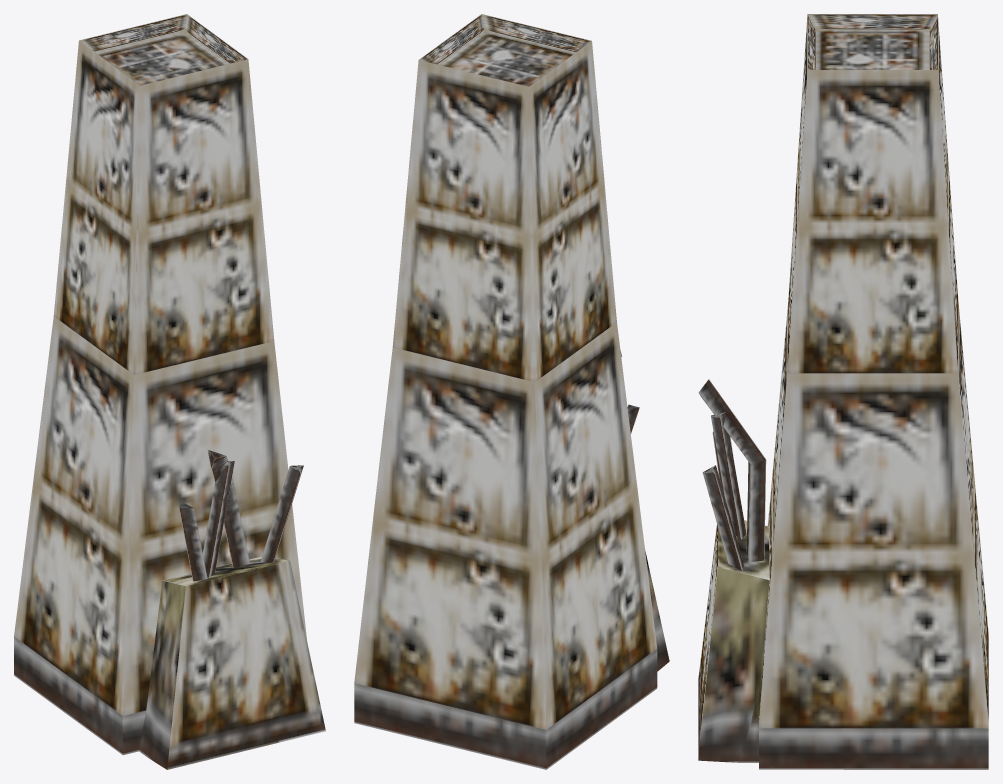
Rendered from d_heavywall_dam.glb.
3 views of the same model, side by side, from view 1: azimuth 30°, elevation 25°; view 2: azimuth 150°, elevation 25°; view 3: azimuth 270°, elevation 25° (orthographic). The views are drawn at different scales.
Parts seen in each view (by area): view 1: D_HeavyWallDam; view 2: D_HeavyWallDam; view 3: D_HeavyWallDam.
Part boxes in pixels (bbox=[...]): D_HeavyWallDam: bbox=[14, 14, 325, 769]; D_HeavyWallDam: bbox=[354, 14, 669, 769]; D_HeavyWallDam: bbox=[698, 14, 988, 769].
Bounding box in the file's own units: 5.49 × 17.91 × 6.93.
1 material, 1 textured.
